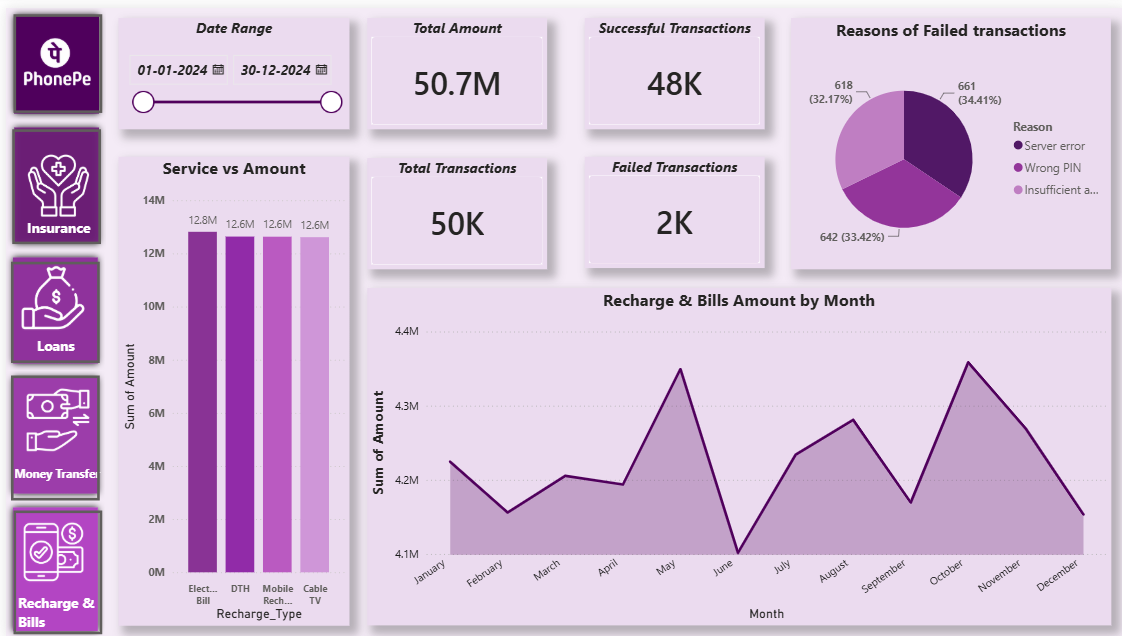

The dashboard page shown, as its layout file describes it:
{"tool":"powerbi","page":{"name":"Recharge & Bills","canvas":[1280,720],"ordinal":4},"visuals":[{"type":"shape","box":[1.4,0,112.9,128.6],"z":0,"group":"g4"},{"type":"slicer","title":"Date Range","fields":{"Values":["Recharge_Bills.Date"]},"box":[128.6,11.4,264.3,127.1],"z":0},{"type":"cardVisual","title":"Total Amount","fields":{"Data":["Sum(Recharge_Bills.Amount)"]},"box":[412.9,11.4,205.7,127.1],"z":1000},{"type":"shape","box":[1.4,128.6,112.9,148.6],"z":1000,"group":"g1"},{"type":"cardVisual","title":"Total Transactions","fields":{"Data":["Count(Recharge_Bills.Transaction_ID)"]},"box":[412.9,171.4,205.7,127.1],"z":2000},{"type":"shape","box":[0,277.1,112.9,137.1],"z":2000,"group":"g2"},{"type":"cardVisual","title":"Successful Transactions","fields":{"Data":["Count(Recharge_Bills.Transaction_ID)"]},"box":[661.4,11.4,205.7,127.1],"z":3000},{"type":"shape","box":[0,414.3,112.9,148.6],"z":3000,"group":"g5"},{"type":"cardVisual","title":"Failed Transactions","fields":{"Data":["Count(Recharge_Bills.Transaction_ID)"]},"box":[661.4,170,205.7,127.1],"z":4000},{"type":"shape","box":[0,562.9,112.9,157.1],"z":4000,"group":"g3"},{"type":"pieChart","title":"Reasons of Failed transactions","fields":{"Category":["Recharge_Bills.Reason"],"Y":["CountNonNull(Recharge_Bills.Reason)"]},"box":[897.1,11.4,365.7,287.1],"z":5000},{"type":"image","box":[17.1,152.9,85.7,100],"z":5000,"group":"g1"},{"type":"image","box":[14.3,290,81.4,80],"z":6000,"group":"g2"},{"type":"lineChart","title":"Recharge & Bills  Amount by Month","fields":{"Y":["Sum(Recharge_Bills.Amount)"],"Category":["Recharge_Bills.Date.Variation.Date Hierarchy.Month"]},"box":[412.9,320,850,385.7],"z":6000},{"type":"group","id":"g1","title":"Group 1","box":[1.4,128.6,150,148.6],"z":7000},{"type":"image","box":[14.3,580,80,82.9],"z":7000,"group":"g3"},{"type":"image","box":[17.7,7.8,82.2,112.2],"z":8000,"group":"g4"},{"type":"group","id":"g2","title":"Group 2","box":[0,277.1,167.1,137.1],"z":8000},{"type":"group","id":"g3","title":"Group 4","box":[0,170,392.9,550],"z":9000},{"type":"image","box":[18.6,427.1,81.4,87.1],"z":9000,"group":"g5"},{"type":"group","id":"g4","title":"Group 5","box":[1.4,0,112.9,128.6],"z":10000},{"type":"textbox","box":[1.4,234.3,150,35.7],"z":10000,"group":"g1"},{"type":"actionButton","box":[7.1,138.6,101.4,131.4],"z":11000},{"type":"textbox","box":[8.6,662.9,101.4,52.9],"z":11000,"group":"g3"},{"type":"actionButton","box":[5.7,290,101.4,115.7],"z":12000},{"type":"textbox","box":[0,514.3,167.1,35.7],"z":12000,"group":"g5"},{"type":"textbox","box":[17.1,370,150,35.7],"z":13000,"group":"g2"},{"type":"actionButton","box":[5.7,420,101.4,142.9],"z":13000},{"type":"actionButton","box":[8.6,574.3,101.4,141.4],"z":14000},{"type":"columnChart","title":"Service vs Amount","fields":{"Category":["Recharge_Bills.Recharge_Type"],"Y":["Sum(Recharge_Bills.Amount)"]},"box":[128.6,170,264.3,535.7],"z":21000,"group":"g5"},{"type":"group","id":"g5","title":"Group 3","box":[0,170,392.9,535.7],"z":21003,"group":"g3"},{"type":"actionButton","box":[7.9,7.1,101.4,112.9],"z":21006,"group":"g4"}]}

Visuals, with their boxes in screenshot pixels (x1, y1, x2, y2), scaled from the page's 1280x720 canvas onto the 1122x636 screenshot:
shape: 1 0 100 114
"Date Range" slicer: 113 10 344 122
"Total Amount" cardVisual: 362 10 542 122
shape: 1 114 100 245
"Total Transactions" cardVisual: 362 151 542 264
shape: 0 245 99 366
"Successful Transactions" cardVisual: 580 10 760 122
shape: 0 366 99 497
"Failed Transactions" cardVisual: 580 150 760 262
shape: 0 497 99 635
"Reasons of Failed transactions" pieChart: 786 10 1107 264
image: 15 135 90 223
image: 13 256 84 327
"Recharge & Bills  Amount by Month" lineChart: 362 283 1107 623
"Group 1" group: 1 114 133 245
image: 13 512 83 586
image: 16 7 88 106
"Group 2" group: 0 245 146 366
"Group 4" group: 0 150 344 635
image: 16 377 88 454
"Group 5" group: 1 0 100 114
textbox: 1 207 133 238
actionButton: 6 122 95 238
textbox: 8 586 96 632
actionButton: 5 256 94 358
textbox: 0 454 146 486
textbox: 15 327 146 358
actionButton: 5 371 94 497
actionButton: 8 507 96 632
"Service vs Amount" columnChart: 113 150 344 623
"Group 3" group: 0 150 344 623
actionButton: 7 6 96 106
